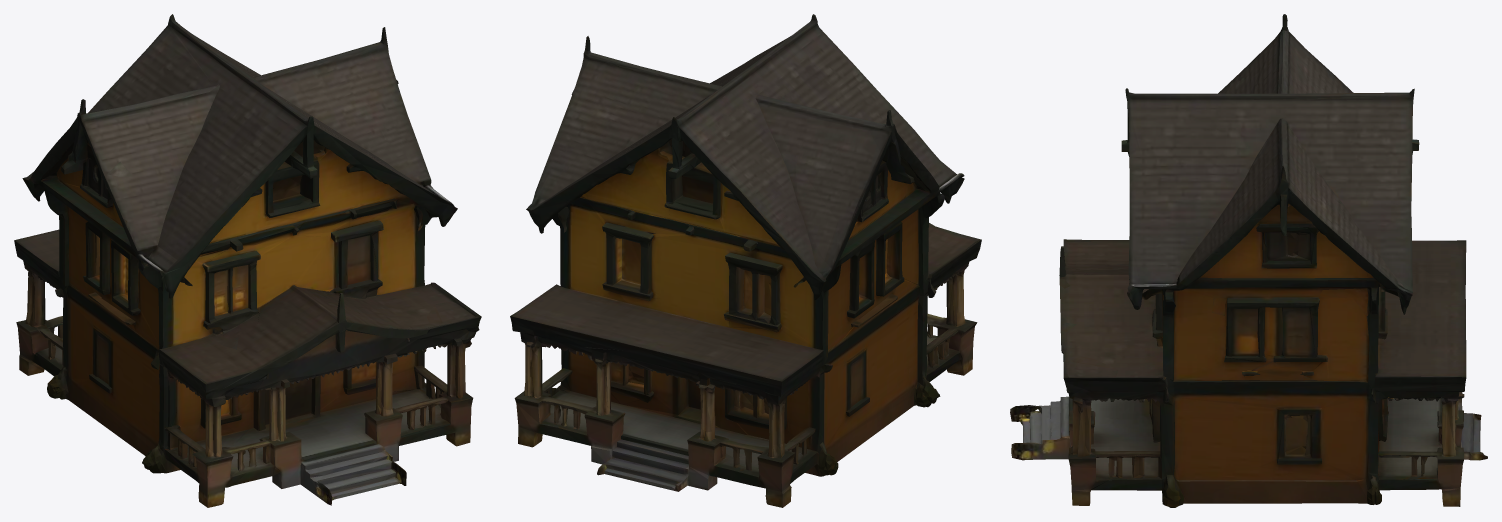
The model's file is house_victorian_yellow.glb.
The picture shows the model from 3 angles, left to right: view 1: azimuth 30°, elevation 25°; view 2: azimuth 150°, elevation 25°; view 3: azimuth 270°, elevation 25°; orthographic projection. The views are drawn at different scales.
Parts seen in each view (by area): view 1: geometry_0; view 2: geometry_0; view 3: geometry_0.
Boxes of the visible parts, left/top/right/bottom form: geometry_0: left=14, top=14, right=481, bottom=507; geometry_0: left=510, top=14, right=981, bottom=507; geometry_0: left=1010, top=14, right=1487, bottom=507.
Bounding box in the file's own units: 0.8295 × 0.8021 × 0.9866.
1 material, 1 textured.
